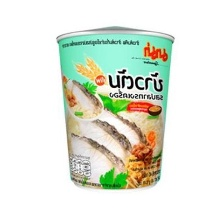paper_cup: (52, 20, 181, 194)
